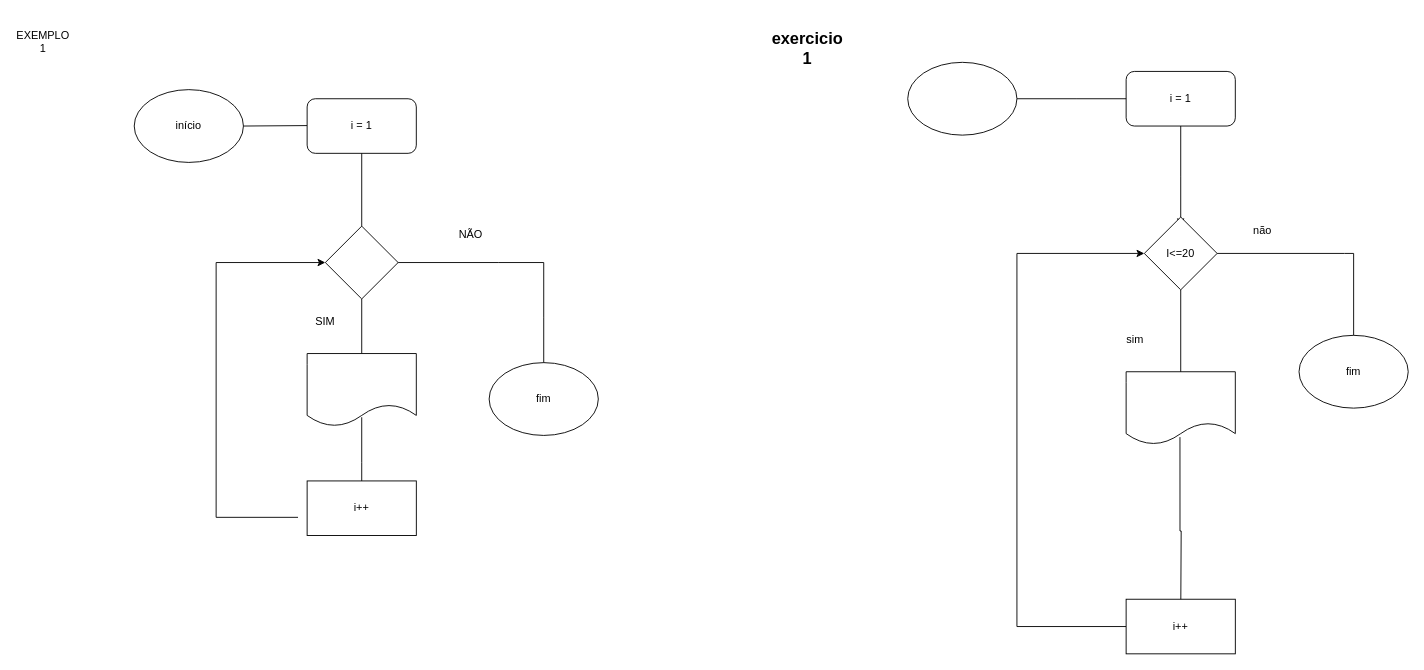
This 1424x670 diagram has some shape labels left out. The centre of each missing label's shape, as x and y in pixels:
eu gosto de esudar algaritmo: the point at 1180,408
i<=5: the point at 361,262
inicio: the point at 962,98
número i: the point at 361,389
